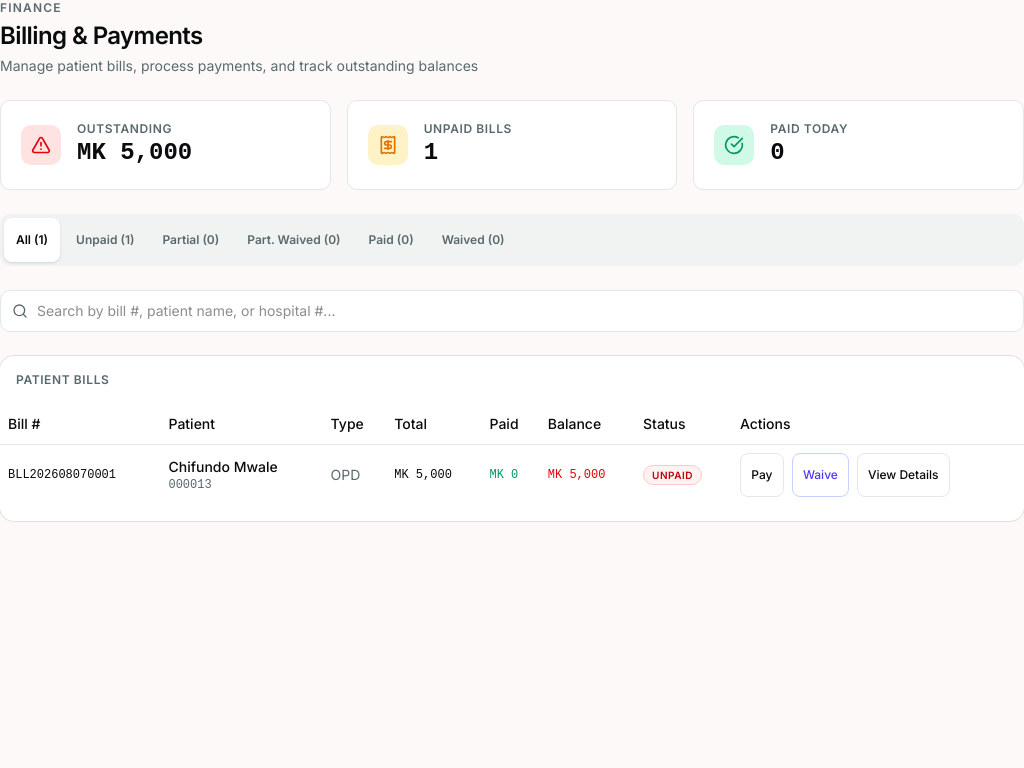
Test: BillingPage › opens a bill details modal from View Details showing itemized charges and totals
The width and height of the screenshot is (1024, 768).
Expected: the text "BLL202608070001" is shown, [0, 444, 160, 504]
Step 1. Click the button "View Details" → (903,474), box [857, 452, 950, 496]
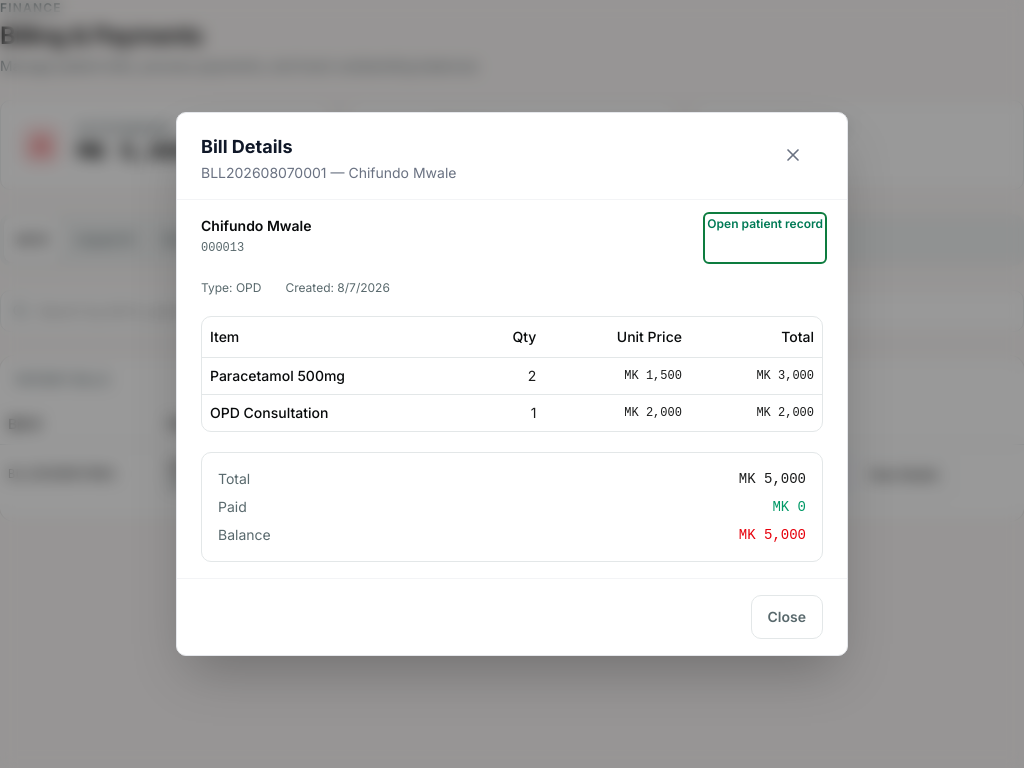
Result: the dialog is shown at [176, 112, 848, 656]
Result: the text "Paracetamol 500mg" is shown at [202, 357, 473, 394]
Result: the text "OPD Consultation" is shown at [202, 394, 473, 431]
